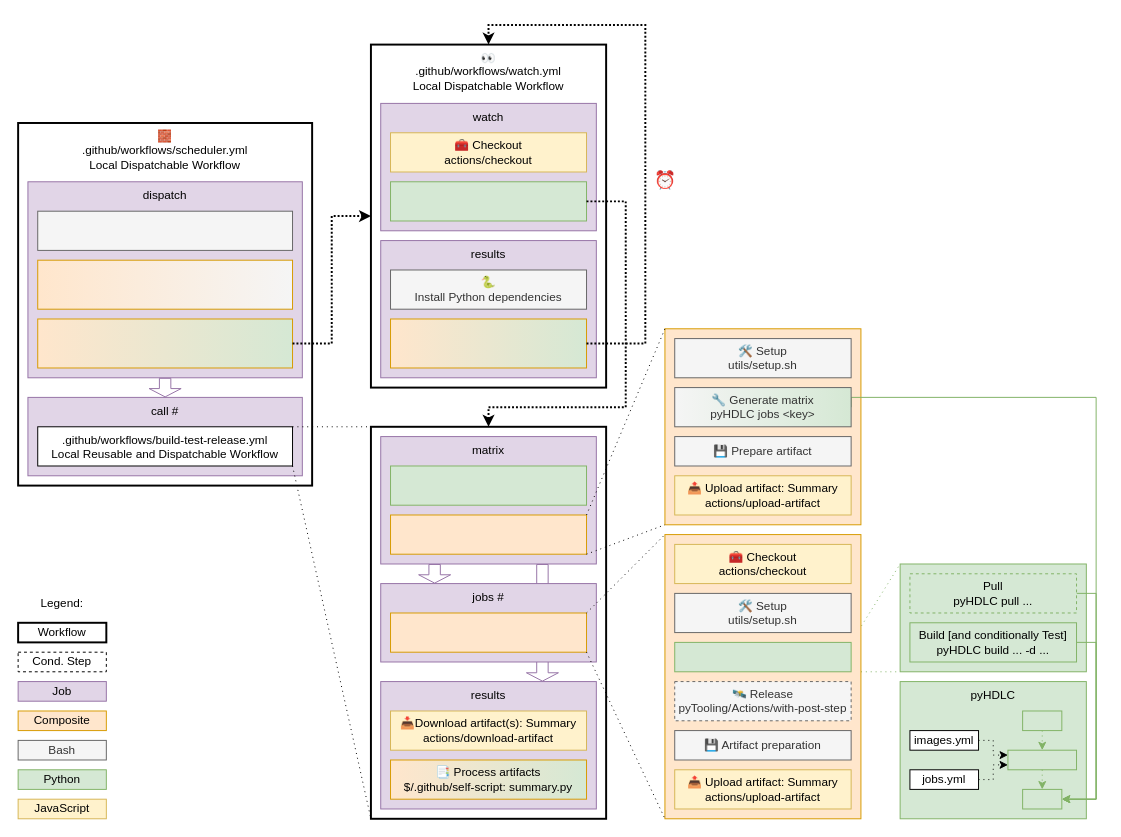
This 1121x837 diagram has some shape labels left out. The shapes that lost their labels are listed below. From the top down, each one's centre as x and y in pixels, then its label:
the point at 488,201: 👀 Watch .github/watch.py
the point at 165,230: 🗑️ Delete old workflow runs
the point at 165,284: 🛠️ Setup $/.github/self-script: dag.setup.sh
the point at 165,343: 🔔 Dispatch and generate call matrix $/.github/self-script: dispatch.py
the point at 488,343: 📊 Collect and process results $/.github/self-script: results.py
the point at 488,485: ❔ Skipper
the point at 488,534: ⚙️Generate matrix .github/generate-matrix
the point at 488,632: 📄 Build, test and release .github/build-test-release
the point at 762,656: 🚧 [Pull,] Build [and Test]
the point at 1042,720: run.py
the point at 1042,759: __init__.py
the point at 1042,798: cli.py
